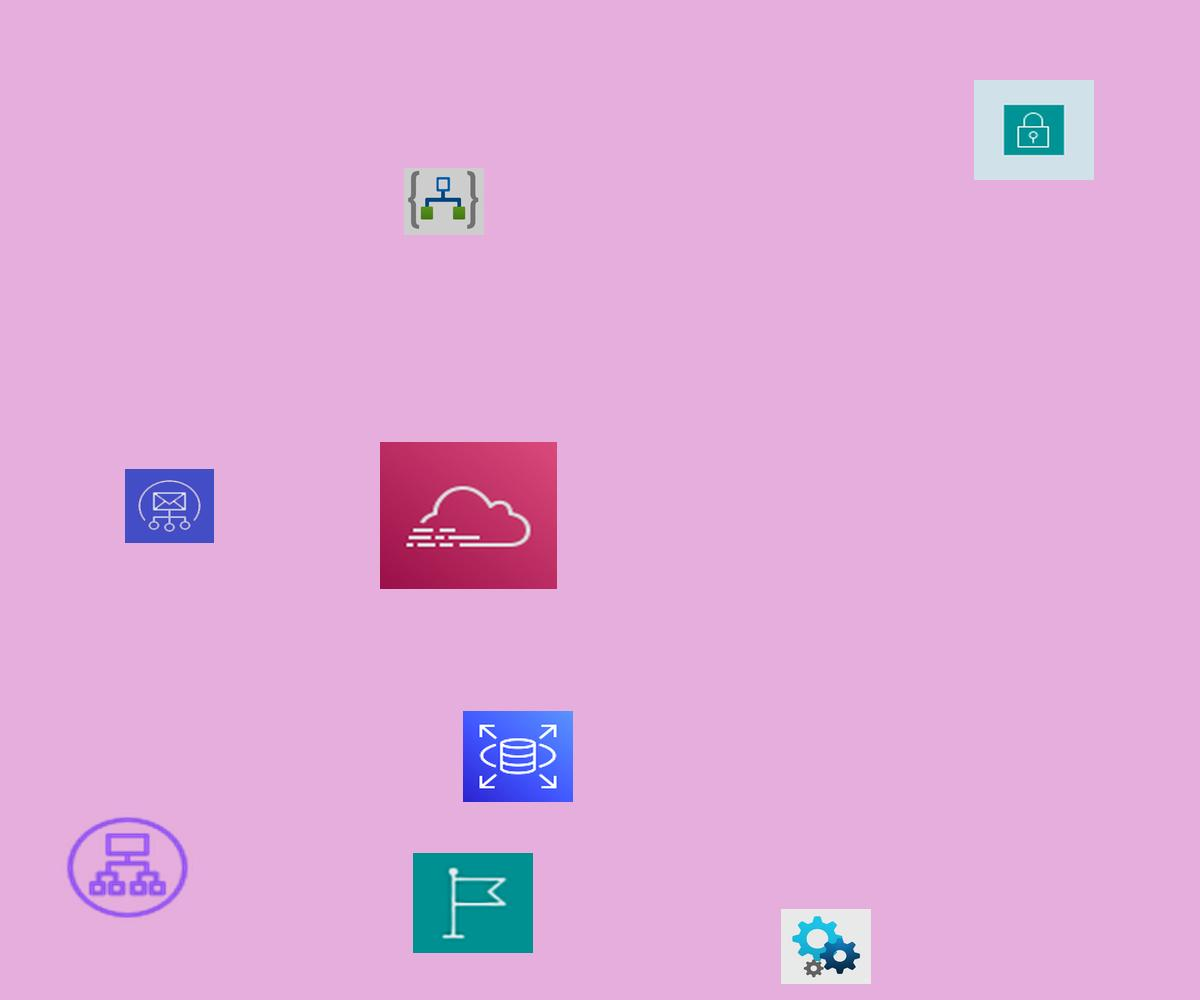AWS-CloudTrail: (380, 442, 557, 589)
AWS-Private-subnet: (974, 80, 1094, 180)
AWS-RDS: (463, 711, 573, 802)
AWS-Region: (413, 853, 533, 953)
AWS-Res_Elastic-Load-Balancing_Application-Load-Balancer: (62, 813, 193, 922)
AWS-Simple-Email-Service: (125, 469, 214, 543)
Azure_api: (781, 909, 871, 984)
Azure_integration-204-Logic-Apps: (404, 168, 484, 235)
